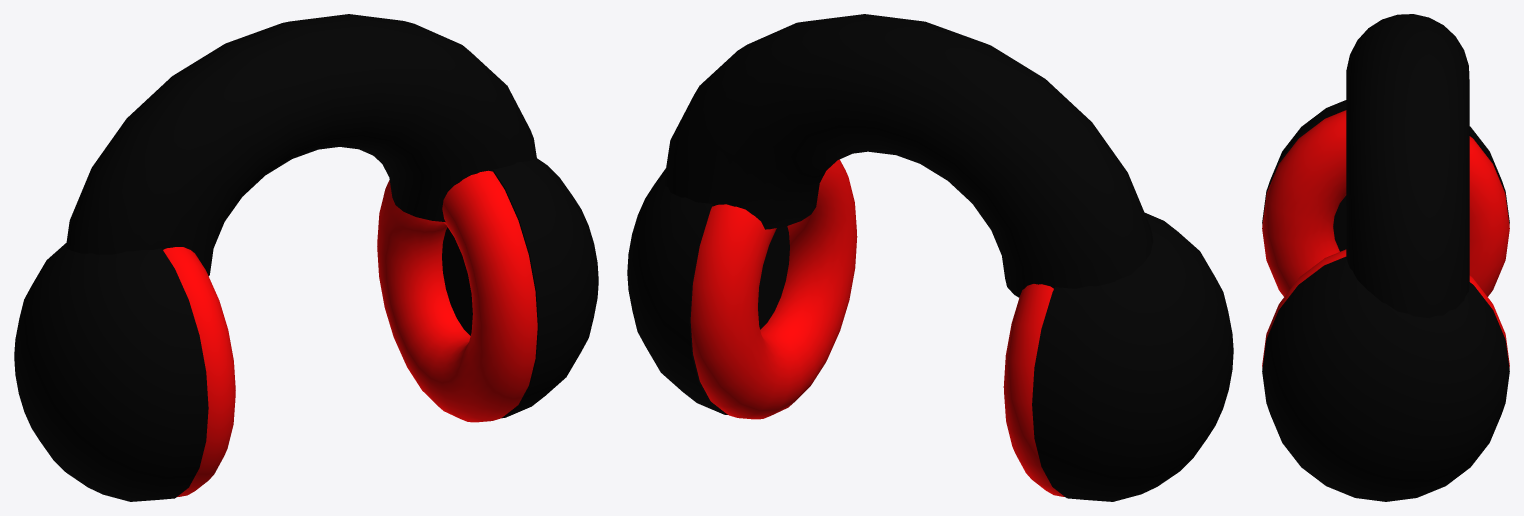
File: headphones.glb
3 renders of one model, left to right at view 1: azimuth 30°, elevation 25°; view 2: azimuth 150°, elevation 25°; view 3: azimuth 270°, elevation 25°, orthographic. The views are drawn at different scales.
Parts seen in each view (by area): view 1: mergedBlocks(Clone); view 2: mergedBlocks(Clone); view 3: mergedBlocks(Clone).
Boxes of the visible parts, left/top/right/bottom form: mergedBlocks(Clone): left=14, top=14, right=598, bottom=501; mergedBlocks(Clone): left=627, top=14, right=1233, bottom=501; mergedBlocks(Clone): left=1262, top=14, right=1509, bottom=501.
Bounding box in the file's own units: 1.37 × 1 × 0.588.
